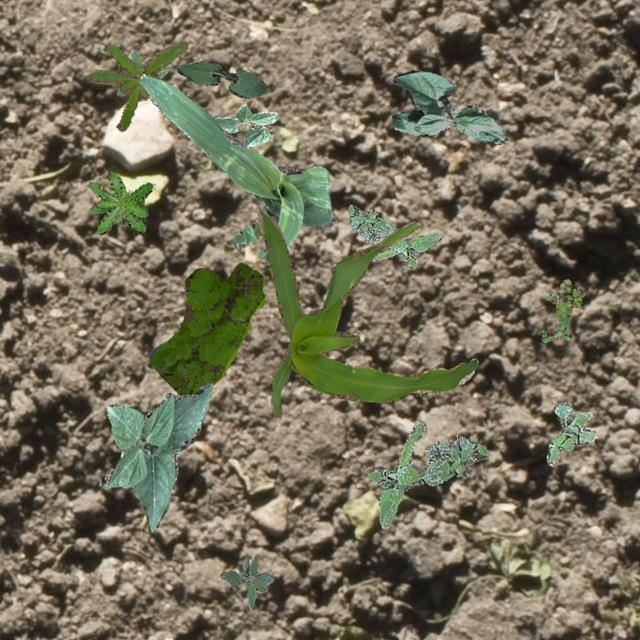crop: (258, 208, 476, 416), (138, 73, 334, 260), (98, 382, 212, 532), (391, 68, 506, 144), (176, 61, 268, 98), (212, 102, 276, 146)
weed: (148, 262, 264, 394), (366, 420, 488, 528), (88, 40, 188, 130), (348, 204, 440, 268), (88, 170, 152, 233), (546, 400, 594, 464), (220, 552, 272, 610), (540, 278, 584, 342), (116, 48, 170, 96)
